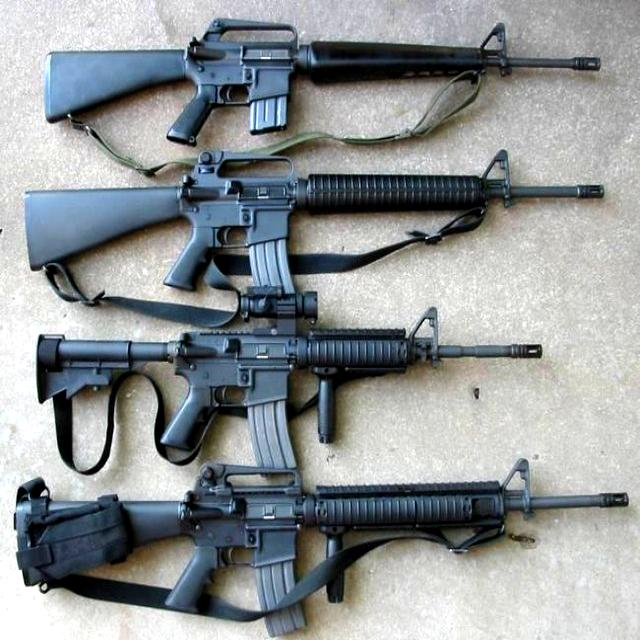m16: (20, 6, 613, 152)
